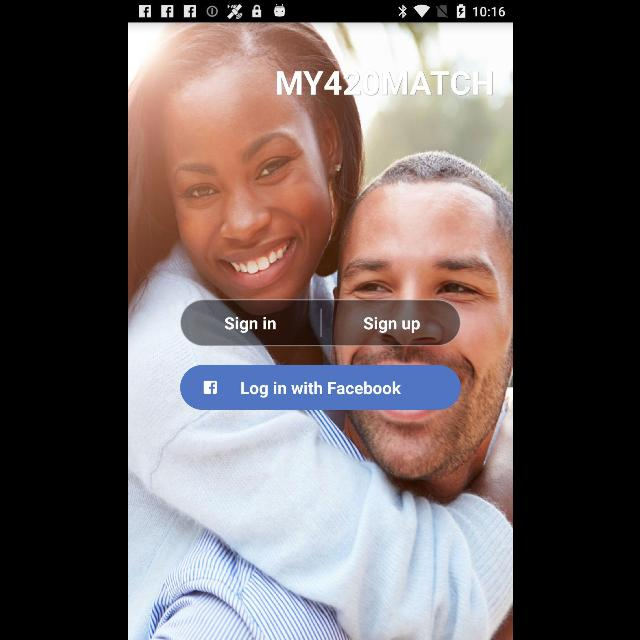backgroundimage: (128, 22, 512, 640)
text: (276, 70, 492, 96)
textbutton: (180, 366, 460, 410), (180, 299, 320, 346), (320, 299, 460, 346)
uppertaskbar: (128, 1, 512, 23)
